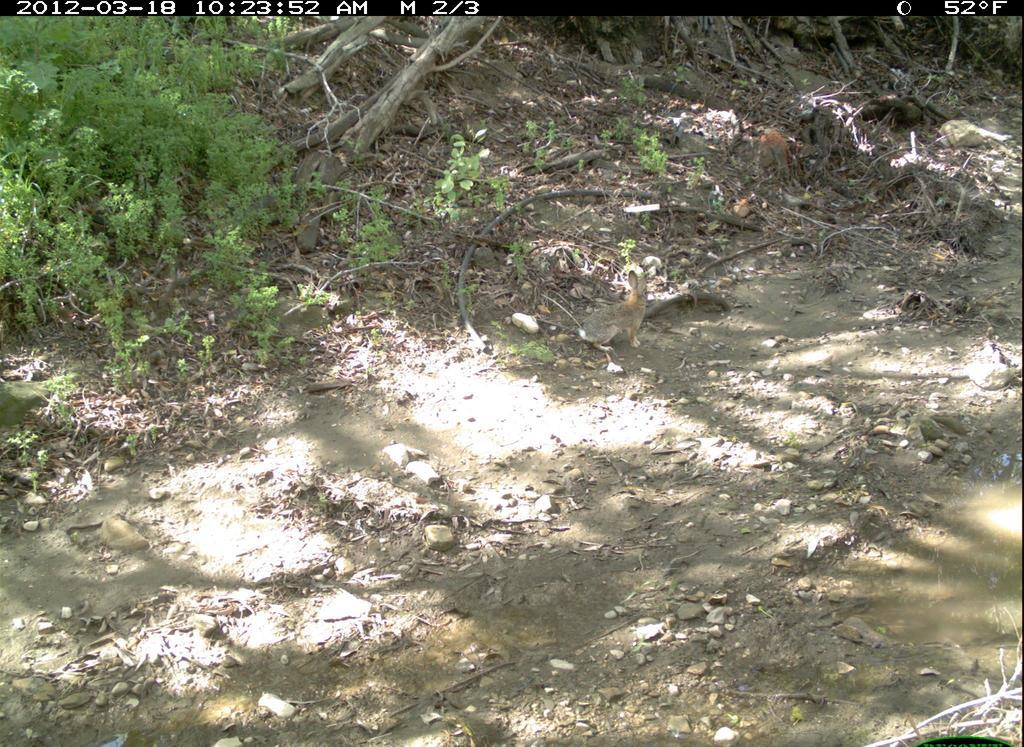rabbit: (573, 263, 665, 360)
